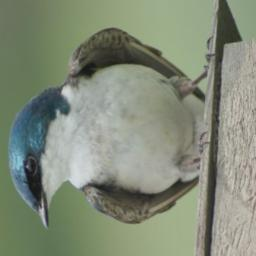Swallow: (0, 6, 234, 251)
